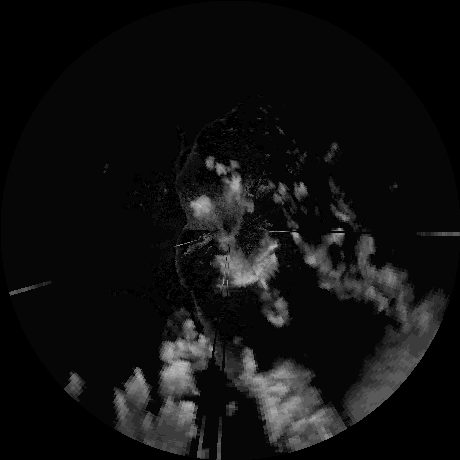frontgust: (172, 225, 212, 327), (171, 139, 199, 223)
